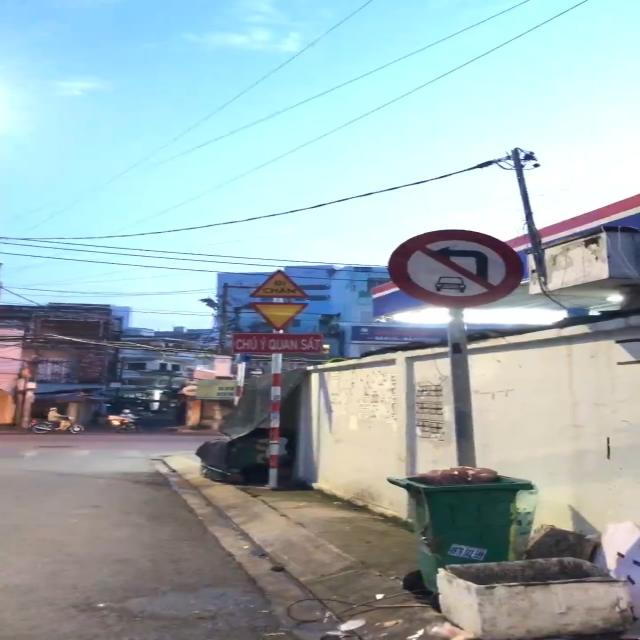Bien bao di cham: (242, 265, 317, 300)
Bien bao giao nhau voi duong uu tien: (242, 299, 318, 329)
